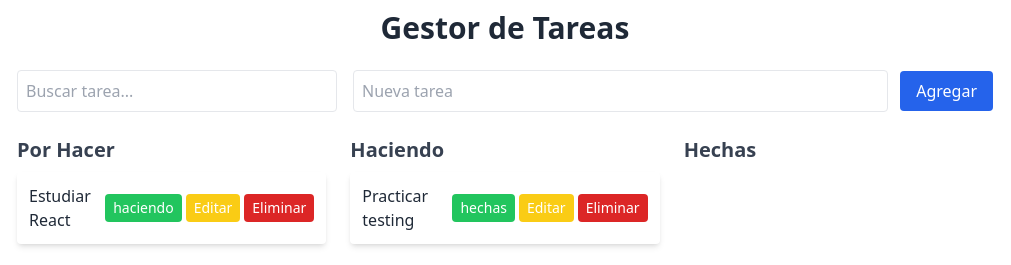
Test case: Todo App › permite cambiar una tarea de "haciendo" a "hechas"
The width and height of the screenshot is (1011, 265).
Click the button "hechas": (484, 208) [452,194,515,222]
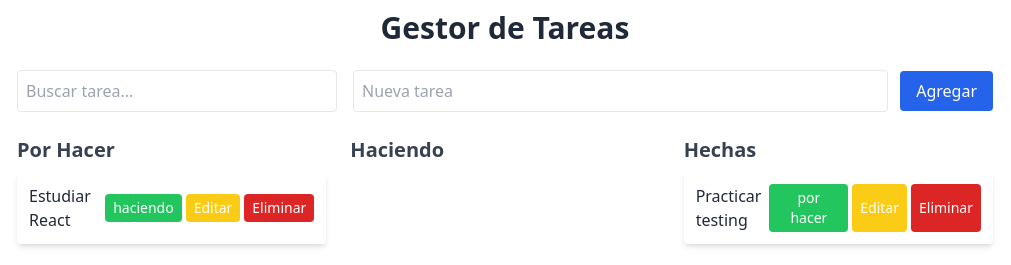
Check: the text "Practicar testing" is shown, box [696,184,762,232]
Check: the button "por hacer" is shown, box [770,184,848,232]
